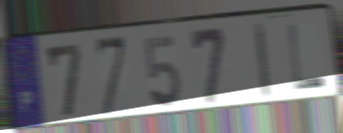5: (142, 32, 182, 109)
7: (42, 42, 86, 120), (188, 27, 228, 108), (94, 35, 131, 119)
I: (252, 20, 274, 101)
L: (285, 22, 329, 93)
